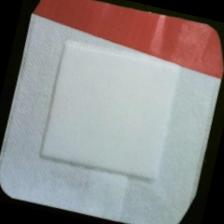Dressing: (1, 1, 224, 224)
Red_T: (24, 1, 224, 85)
